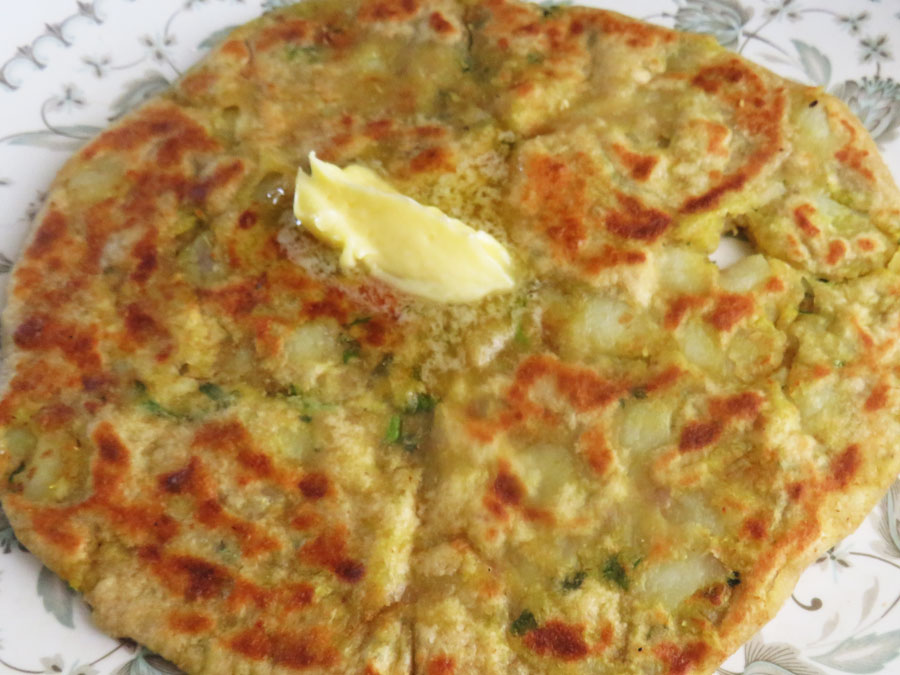aloo_paratha: (1, 7, 898, 674)
